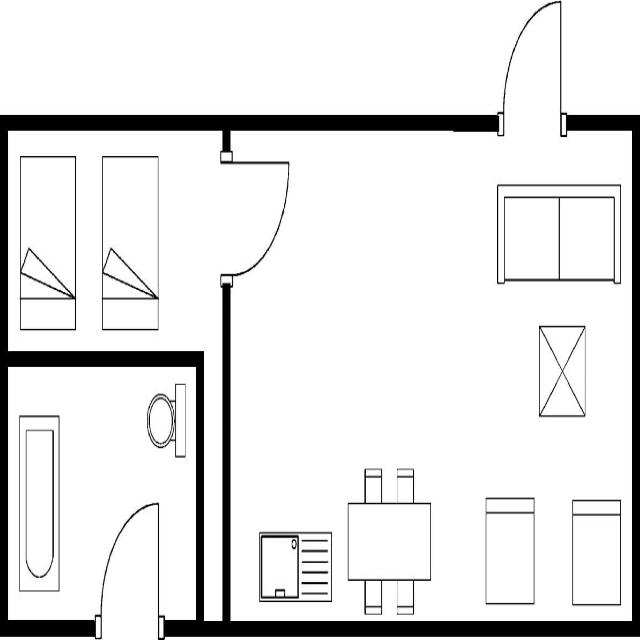bed: (98, 148, 160, 338), (16, 147, 77, 336)
coffee_table: (532, 316, 588, 426)
dining_table: (342, 458, 434, 622)
large_sink: (142, 377, 188, 465)
large_sofa: (493, 173, 625, 292)
sink: (254, 523, 334, 607)
small_sofa: (479, 492, 539, 610), (568, 492, 624, 614)
tub: (16, 407, 64, 599)
